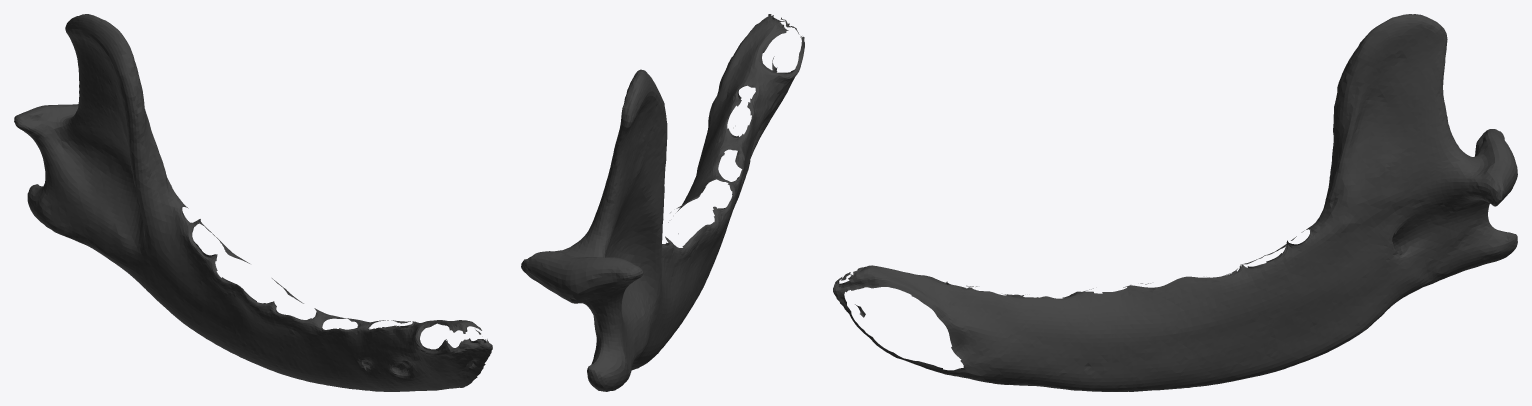
3 views of the same model, side by side, from view 1: azimuth 30°, elevation 25°; view 2: azimuth 150°, elevation 25°; view 3: azimuth 270°, elevation 25° (orthographic). The views are drawn at different scales.
Parts seen in each view (by area): view 1: Group897; view 2: Group897; view 3: Group897.
Part boxes in pixels (box(x1,y1,x2,y2)): Group897: box(14, 14, 492, 391); Group897: box(521, 14, 804, 391); Group897: box(833, 14, 1517, 391).
Size of the model in its own units: 0.4858 by 0.7432 by 1.4.
Materials: 1 (1 with a texture image).
